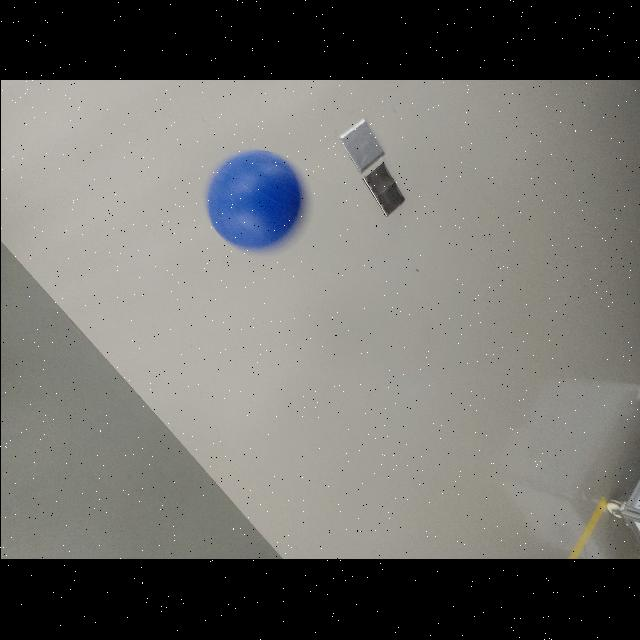B: (206, 150, 304, 248)
